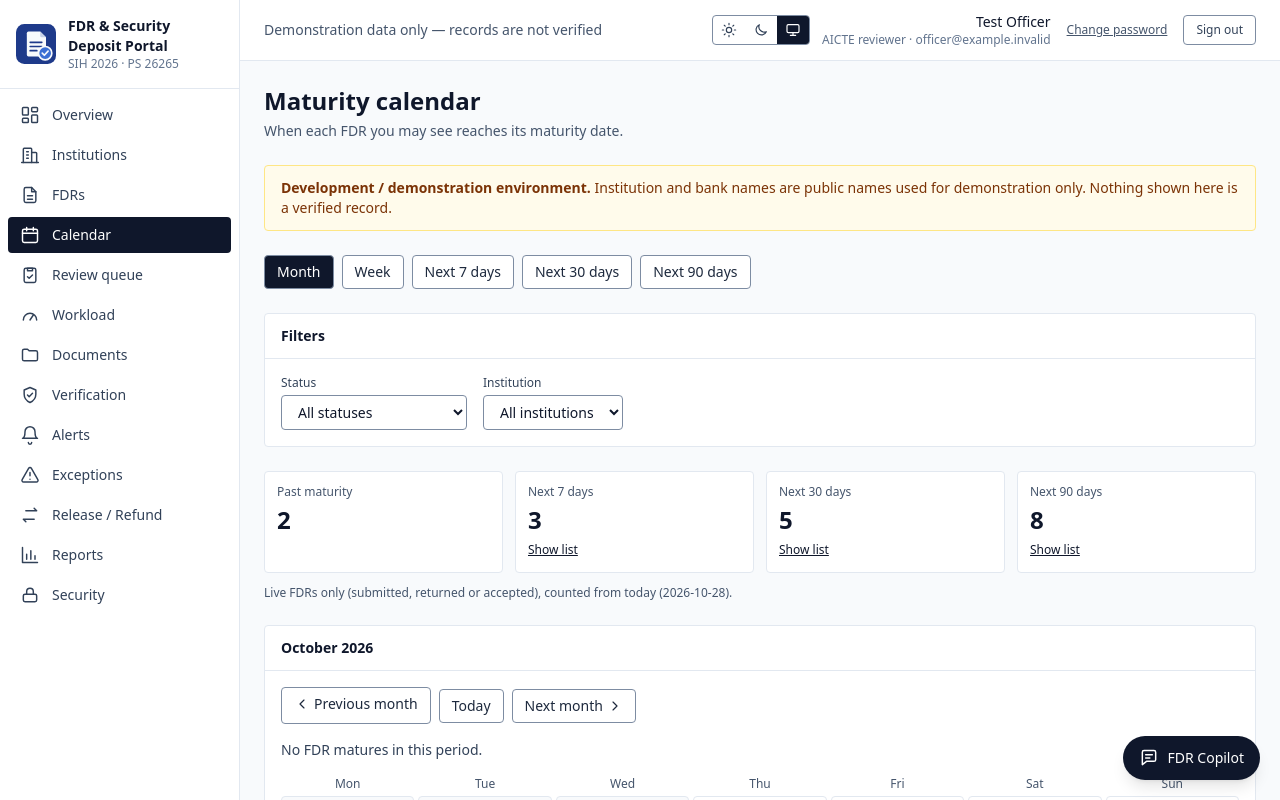
Test: week and list views › shows a seven-day week range
The width and height of the screenshot is (1280, 800).
Expected: the heading "Maturity calendar" is shown, [264, 84, 480, 117]
Click the button "Week": (372, 272) [342, 255, 404, 289]
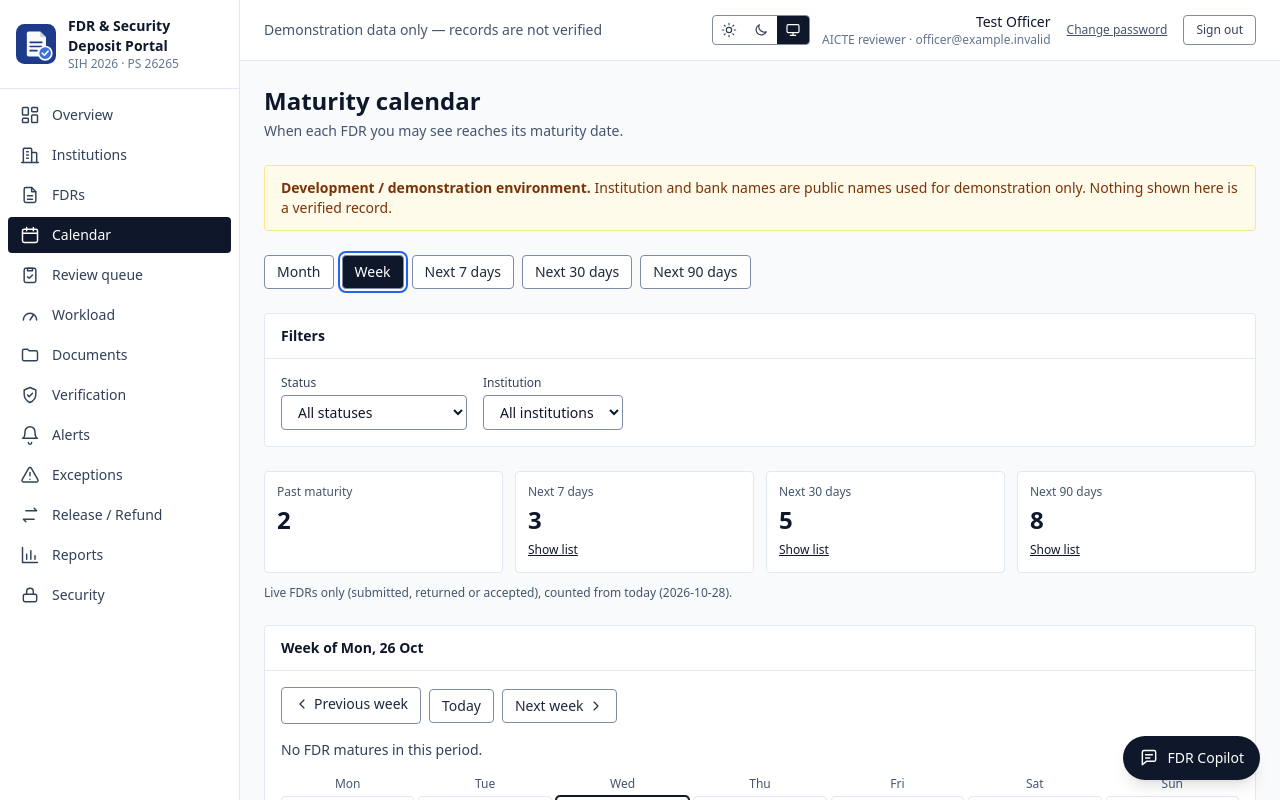
Expected: the button "Next week" is shown, [502, 688, 617, 722]
